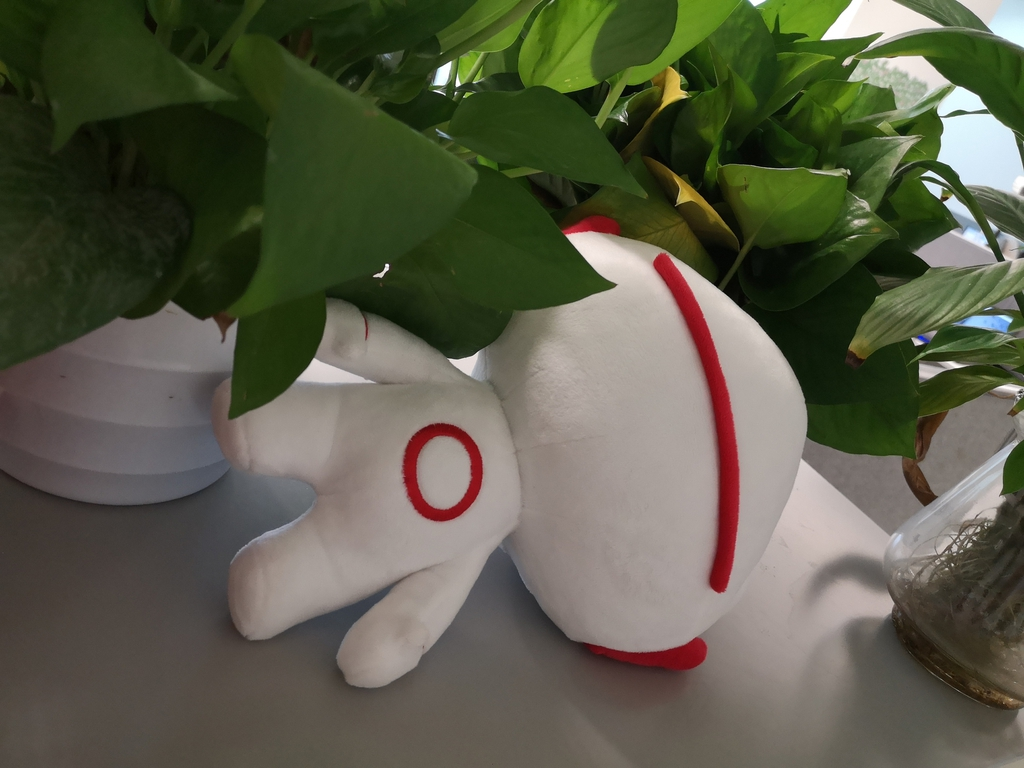yunbao: (132, 192, 807, 698)
